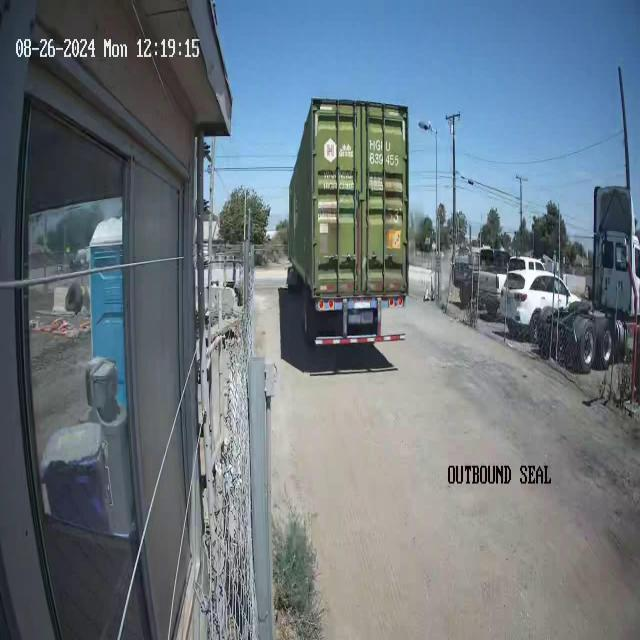TRUCK_OUT: (286, 96, 409, 344)
